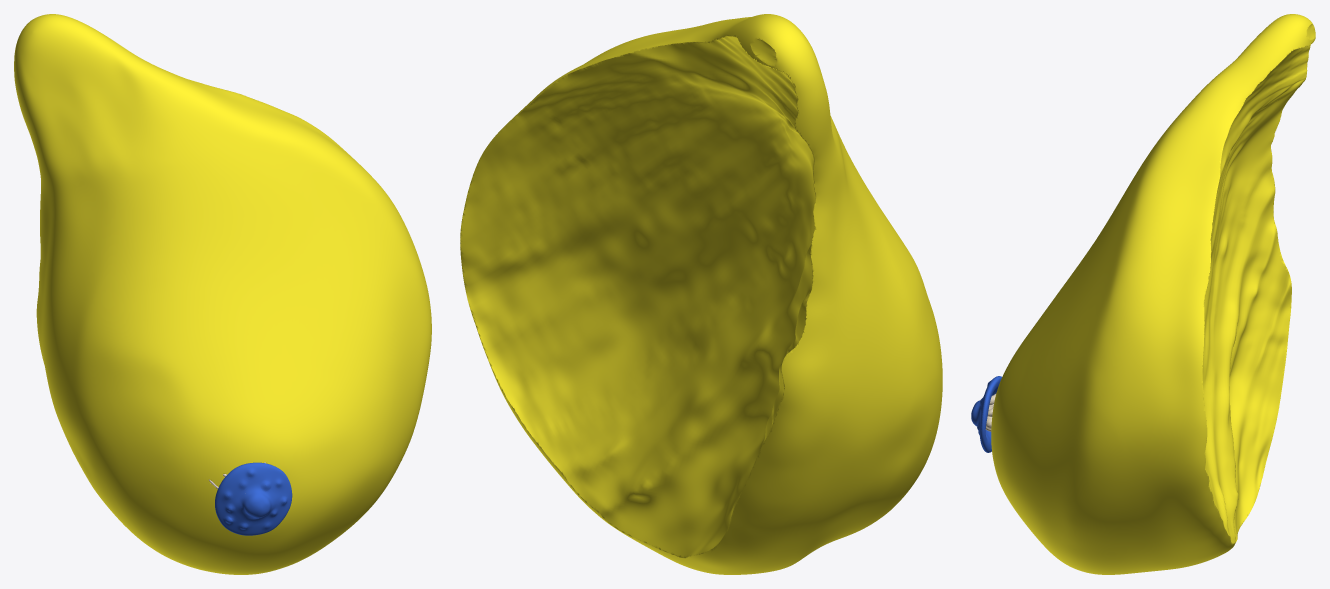
3 views of the same model, side by side, from view 1: azimuth 30°, elevation 25°; view 2: azimuth 150°, elevation 25°; view 3: azimuth 270°, elevation 25° (orthographic). The views are drawn at different scales.
Parts seen in each view (by area): view 1: VH_F_fat_R, VH_F_areola_R, VH_F_nipple_R, VH_F_areolar_tubercles_R; view 2: VH_F_fat_R; view 3: VH_F_fat_R, VH_F_areola_R.
Part boxes in pixels (left/top/right/bottom): VH_F_fat_R: left=14, top=14, right=431, bottom=574; VH_F_areola_R: left=215, top=462, right=292, bottom=535; VH_F_nipple_R: left=241, top=491, right=271, bottom=519; VH_F_areolar_tubercles_R: left=223, top=468, right=286, bottom=530; VH_F_fat_R: left=460, top=14, right=942, bottom=574; VH_F_fat_R: left=991, top=14, right=1315, bottom=574; VH_F_areola_R: left=976, top=376, right=1001, bottom=452.
Size of the model in its own units: 0.1283 by 0.18 by 0.1132.
